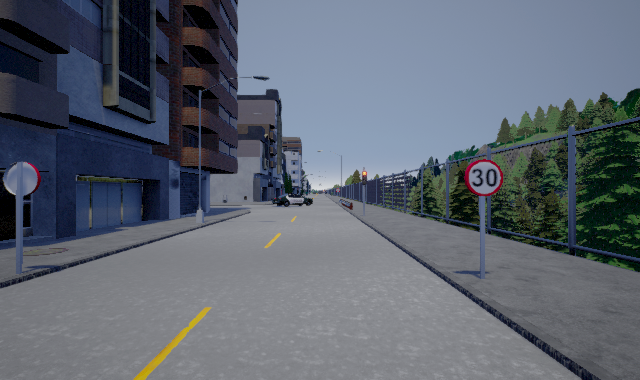traffic_light: (362, 169, 367, 187)
traffic_sign: (464, 159, 503, 196)
vehicle: (272, 193, 313, 207)
